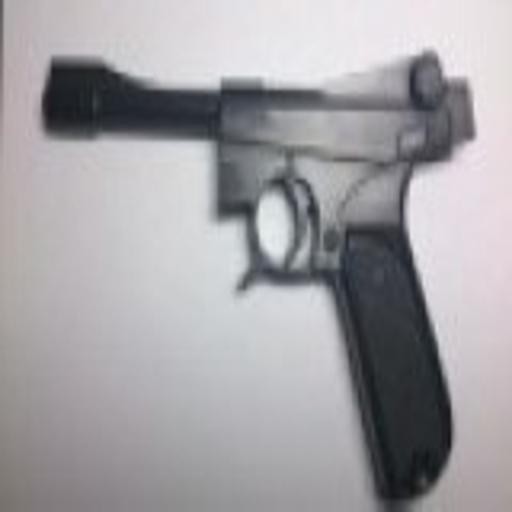Handgun: (40, 45, 475, 506)
